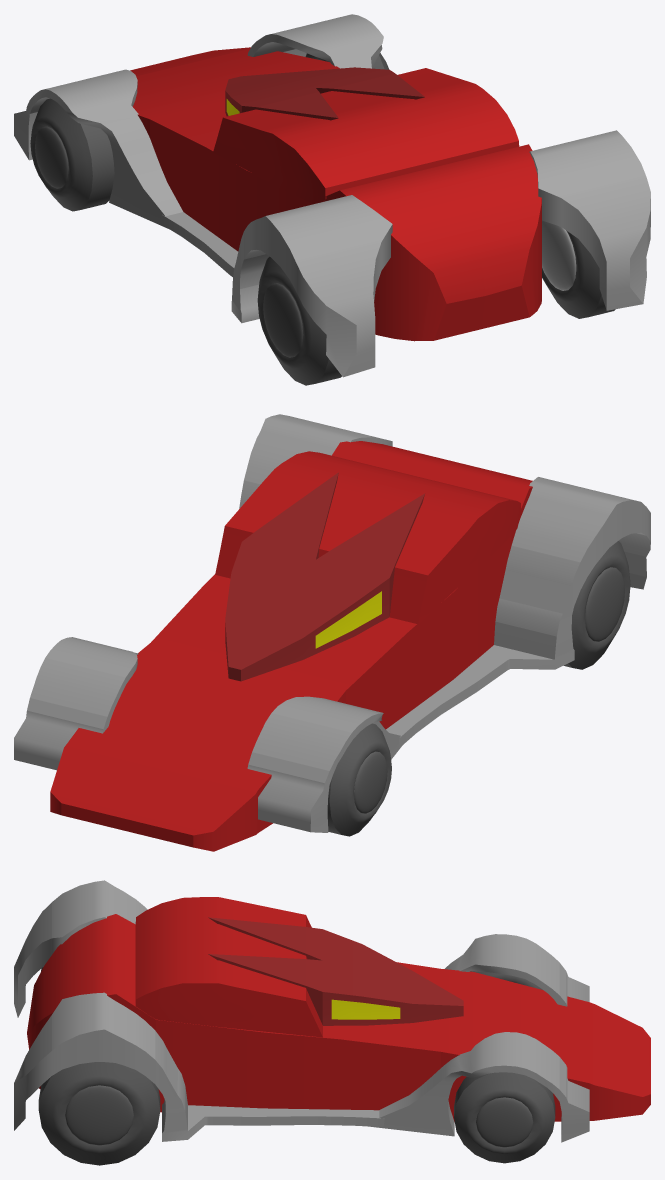
The model's file is Phantom.fbx.
3 renders of one model, top to bottom at view 1: azimuth 30°, elevation 25°; view 2: azimuth 150°, elevation 25°; view 3: azimuth 270°, elevation 25°, orthographic. The views are drawn at different scales.
Visible parts, largest first — view 1: polySurface123, polySurface124, polySurface125, polySurface126; view 2: polySurface123, polySurface124, polySurface125; view 3: polySurface123, polySurface126, polySurface127.
Boxes of the visible parts, box(x1,y1,x2,y2) form: polySurface123: box(14, 14, 650, 377); polySurface124: box(30, 98, 114, 211); polySurface125: box(257, 256, 341, 385); polySurface126: box(542, 230, 615, 318); polySurface123: box(14, 414, 650, 851); polySurface124: box(327, 723, 391, 836); polySurface125: box(563, 541, 630, 669); polySurface123: box(14, 880, 650, 1142); polySurface126: box(38, 1062, 160, 1165); polySurface127: box(454, 1072, 555, 1163).
Size of the model in its own units: 5.75 by 2.99 by 10.37.
